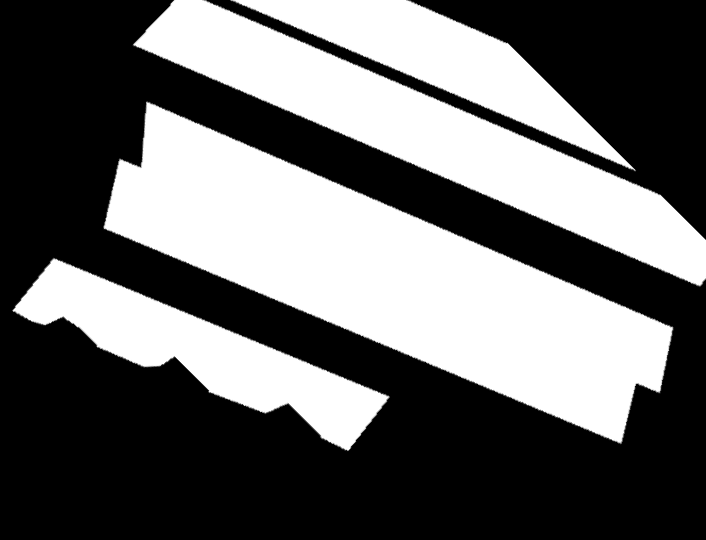parkingspot: (104, 102, 673, 444), (133, 0, 706, 286), (13, 258, 389, 451), (231, 0, 636, 171)
